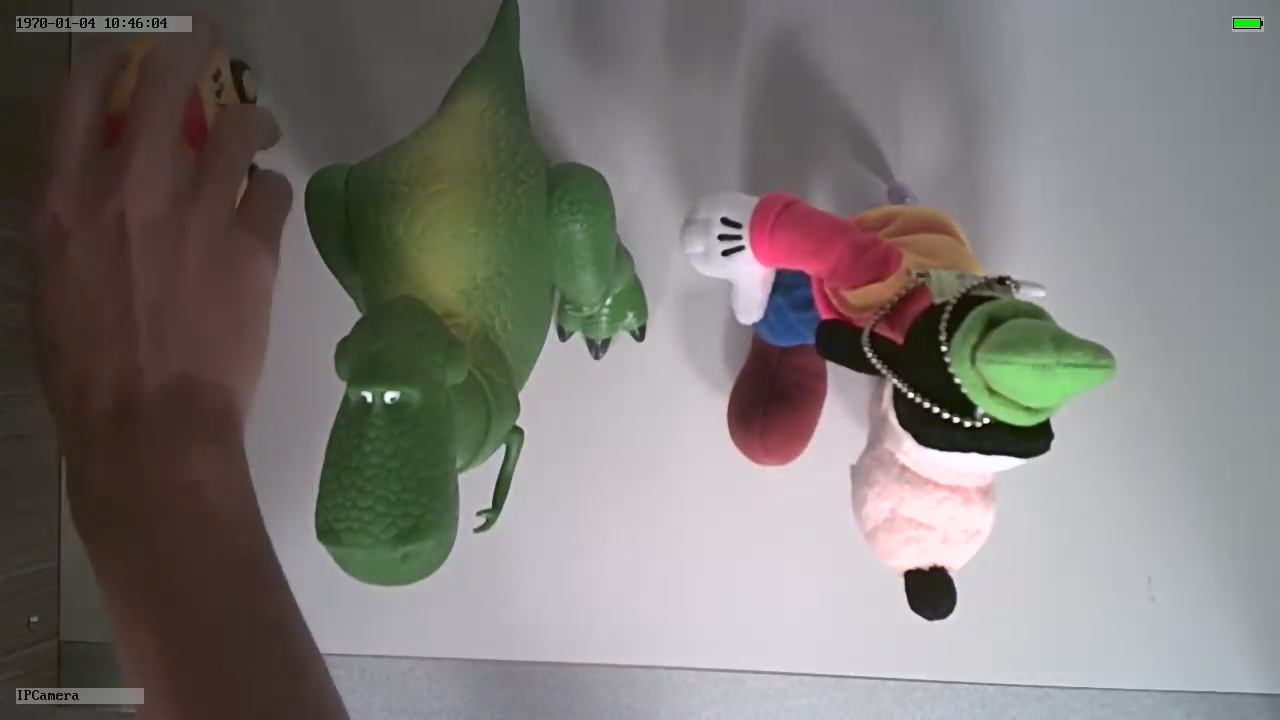goofy: (674, 181, 1119, 626)
